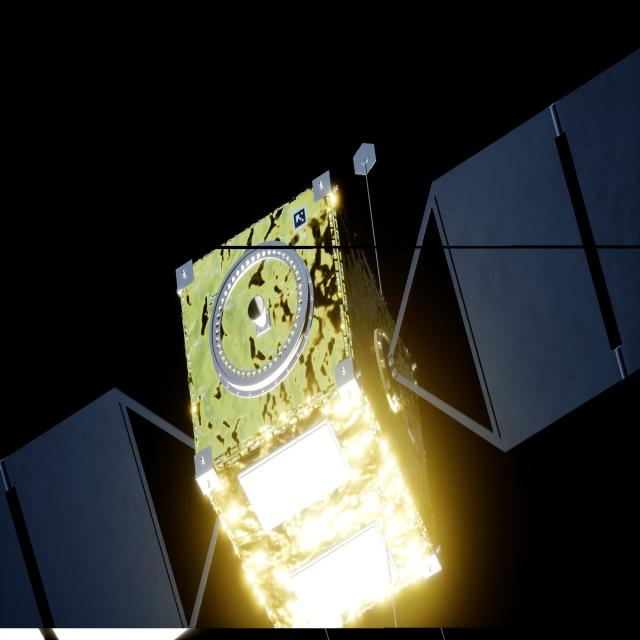satellite: (0, 47, 640, 640)
